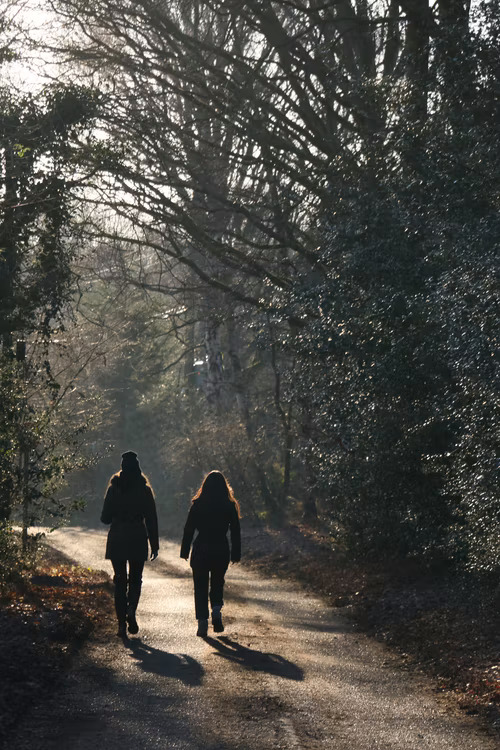person: (181, 470, 244, 636), (102, 452, 158, 636)
